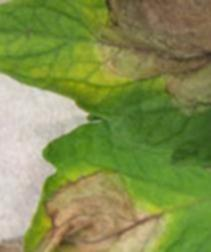Tomato leaf late blight: (0, 0, 211, 171), (0, 119, 211, 252)
